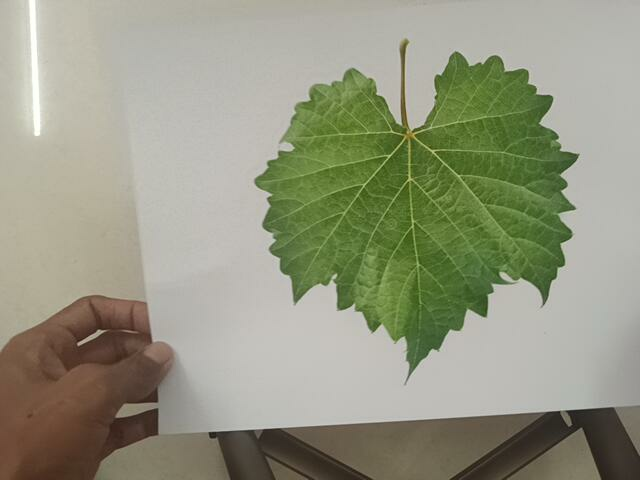Grape_Healthy: (254, 35, 576, 375)
